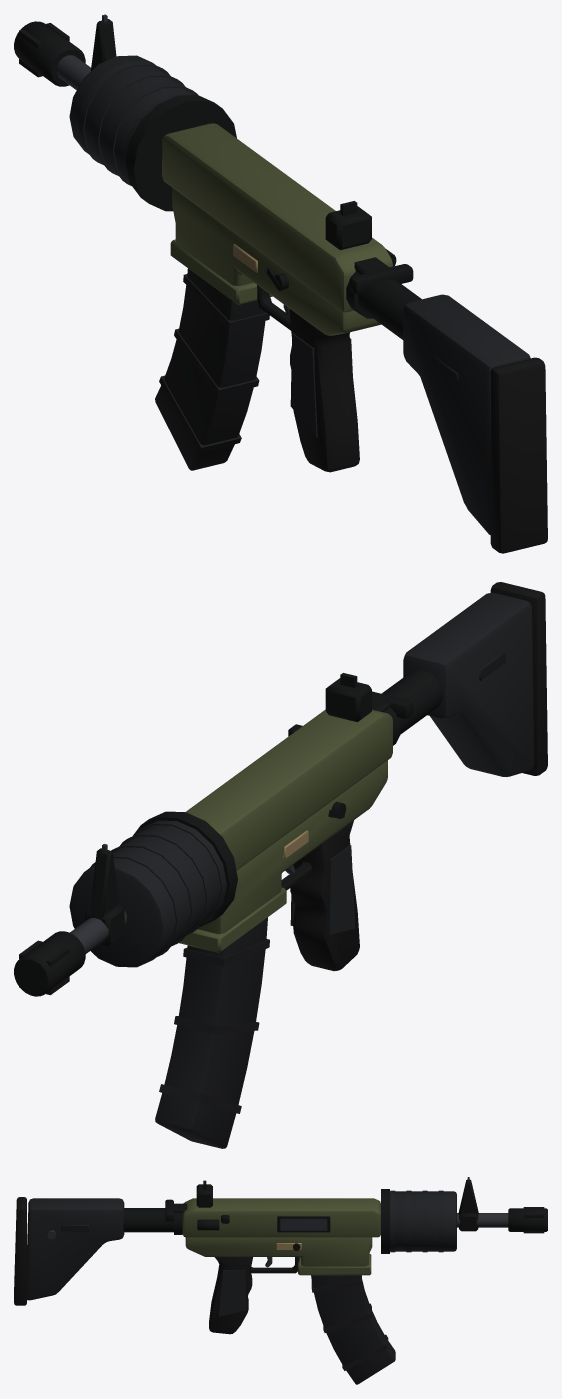
File: gun_03.glb
3 views of the same model, one above another, from view 1: azimuth 30°, elevation 25°; view 2: azimuth 150°, elevation 25°; view 3: azimuth 270°, elevation 25° (orthographic). The views are drawn at different scales.
Parts seen in each view (by area): view 1: gun_03; view 2: gun_03; view 3: gun_03.
Part boxes in pixels (<box>): gun_03: <box>14,14,547,553</box>; gun_03: <box>14,582,547,1148</box>; gun_03: <box>14,1177,547,1384</box>.
Size of the model in its own units: 0.0887 by 0.305 by 0.7273.
